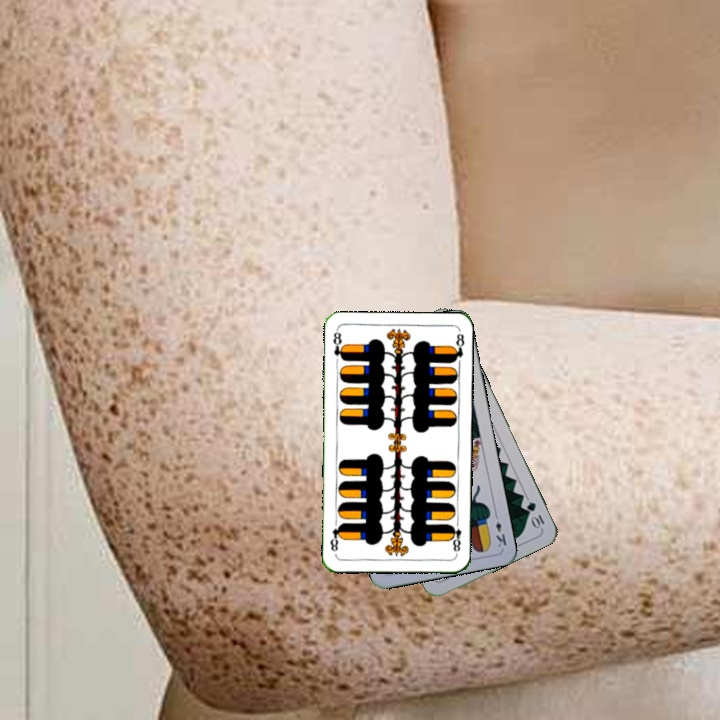E8: (446, 516, 464, 557), (329, 327, 347, 363)
EK: (490, 509, 509, 550)
G10: (523, 497, 547, 531)
